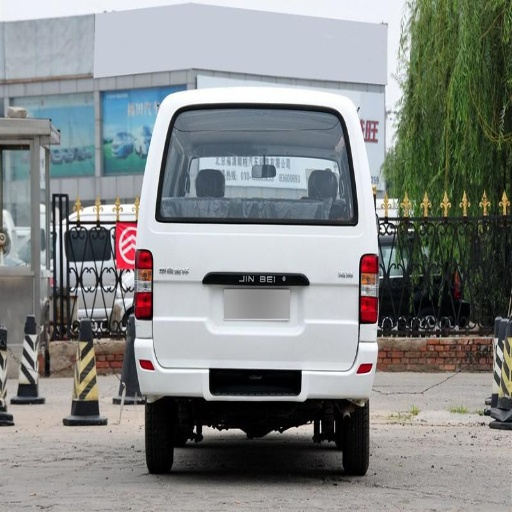back_bumper: (134, 320, 375, 405)
back_left_light: (116, 223, 152, 319)
trunk: (140, 228, 370, 376)
